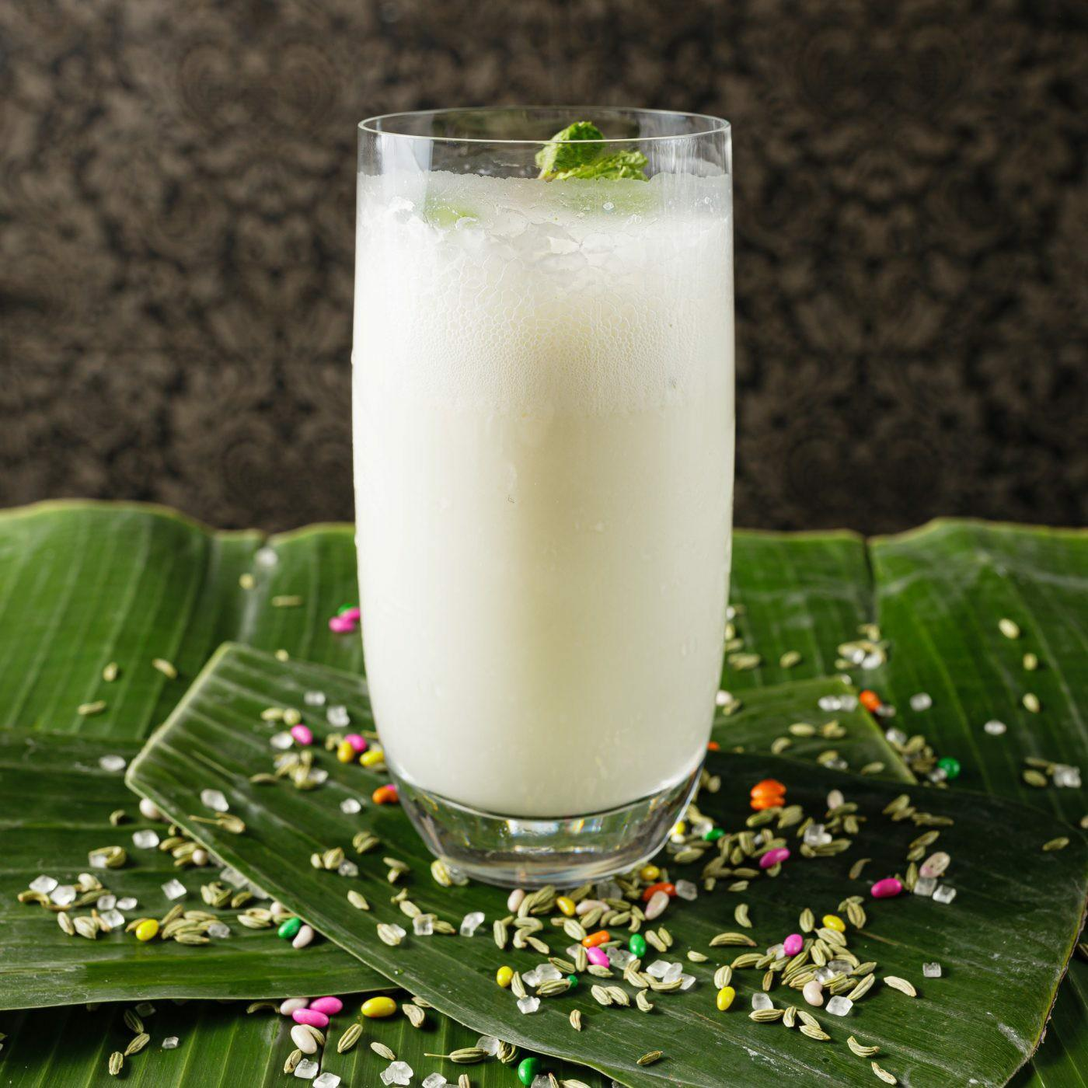Lassi: (351, 165, 735, 813)
